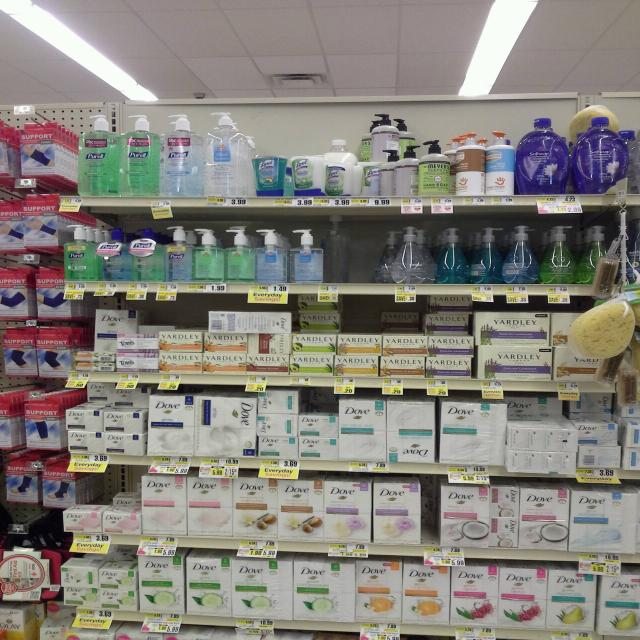void: (359, 214, 388, 294), (417, 480, 440, 557)
